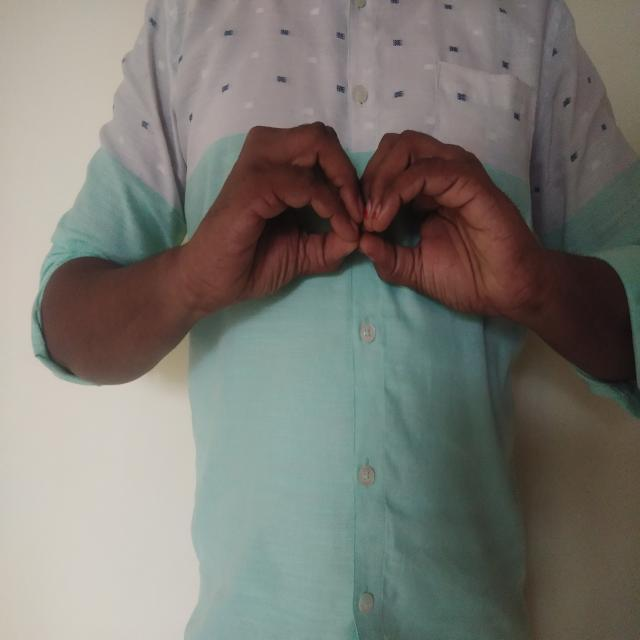B: (174, 114, 553, 336)
